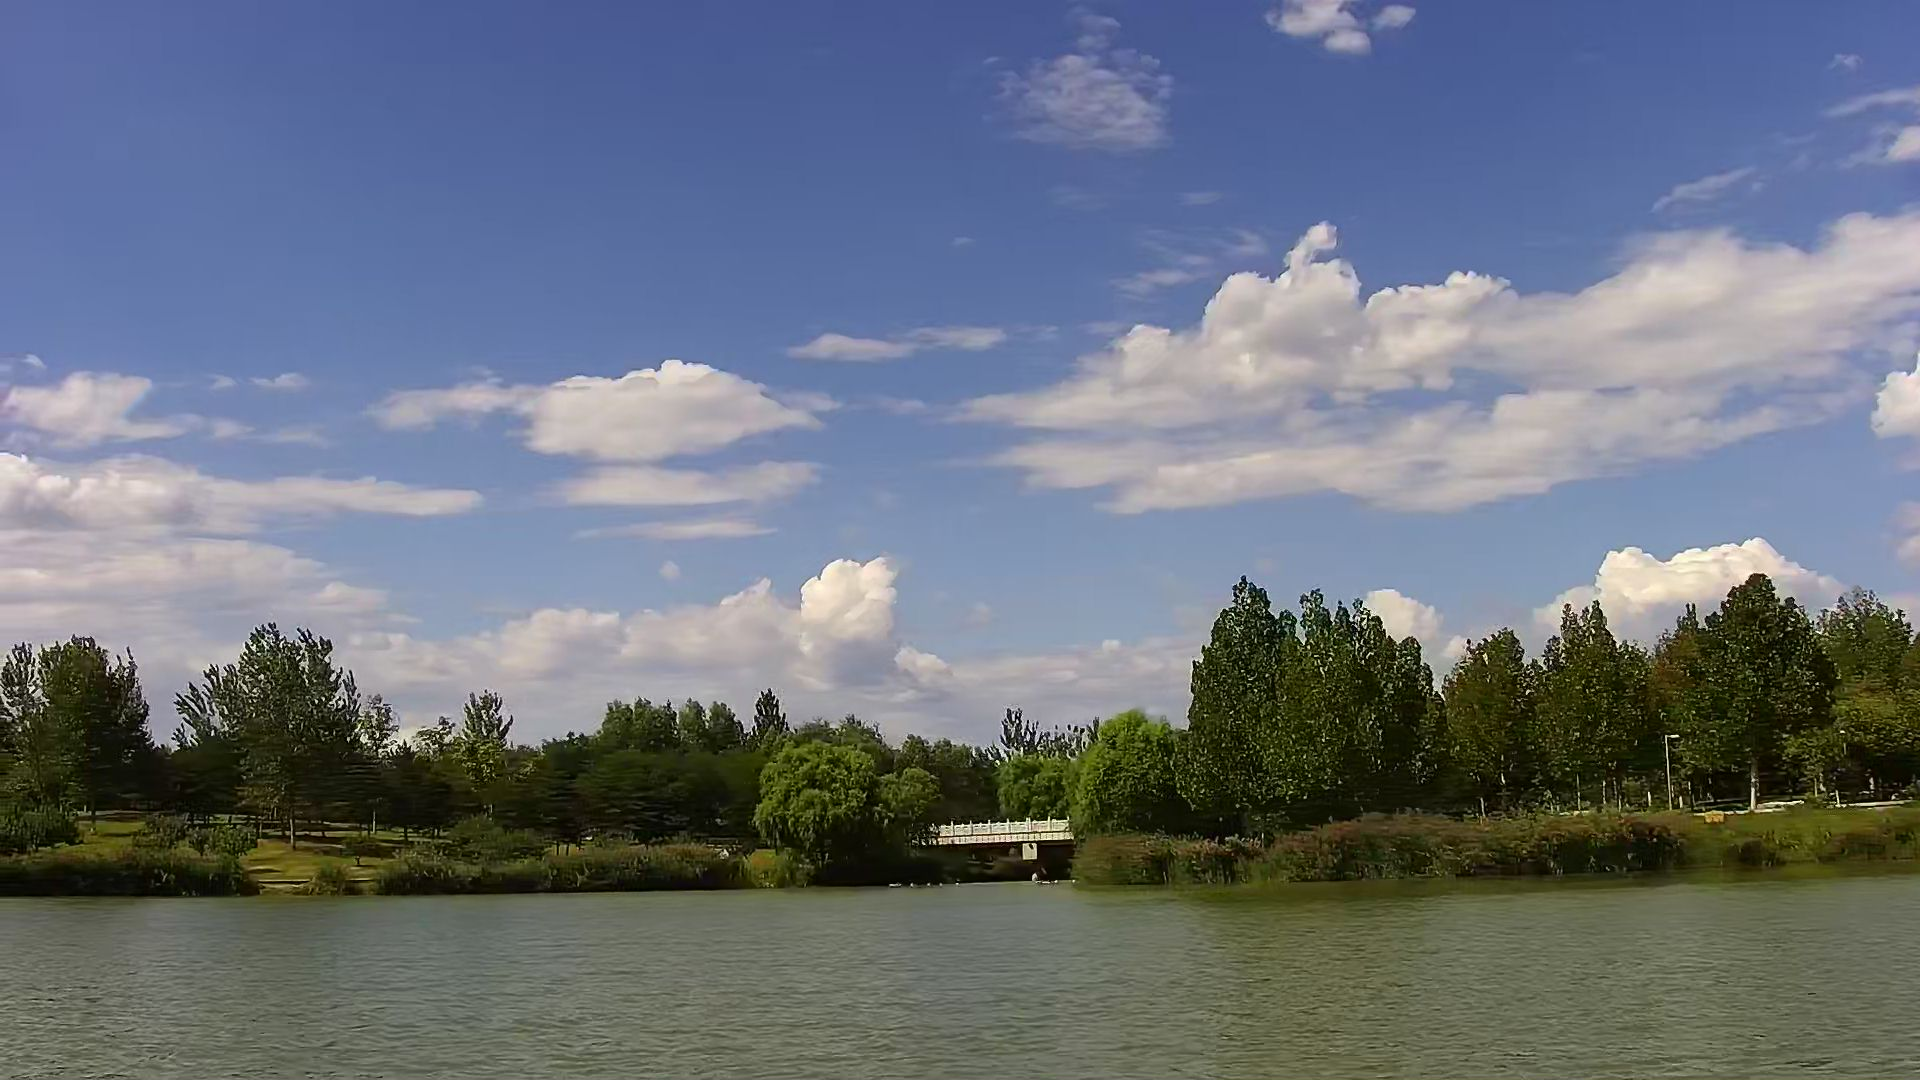bridge: (938, 816, 1069, 880)
